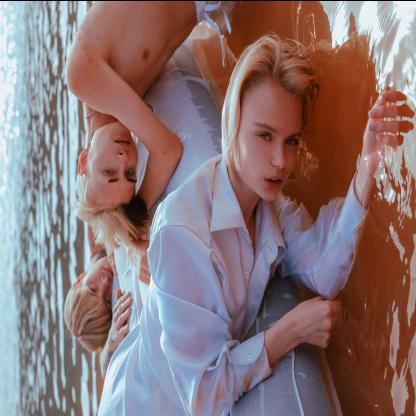Eye: (254, 128, 274, 144), (282, 133, 301, 149), (100, 164, 118, 176), (88, 283, 99, 294), (123, 167, 135, 175), (102, 297, 112, 306)
Mouth: (262, 172, 286, 190), (112, 134, 132, 146), (102, 264, 114, 274)
Nose: (270, 140, 286, 170), (98, 274, 111, 296), (118, 148, 130, 168)
